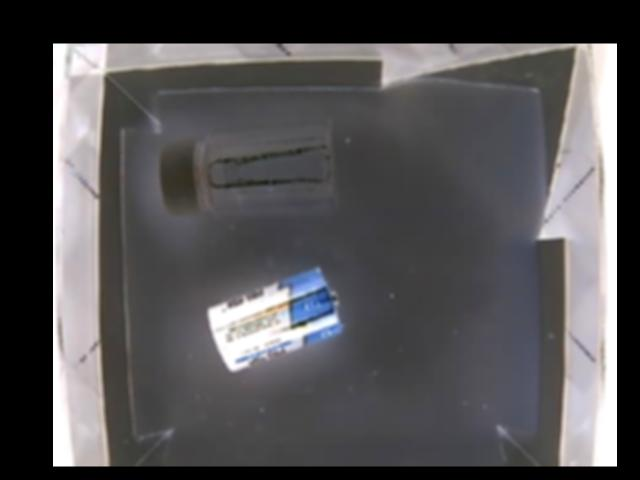Battery: (205, 268, 344, 372)
Bottle: (156, 120, 341, 219)
